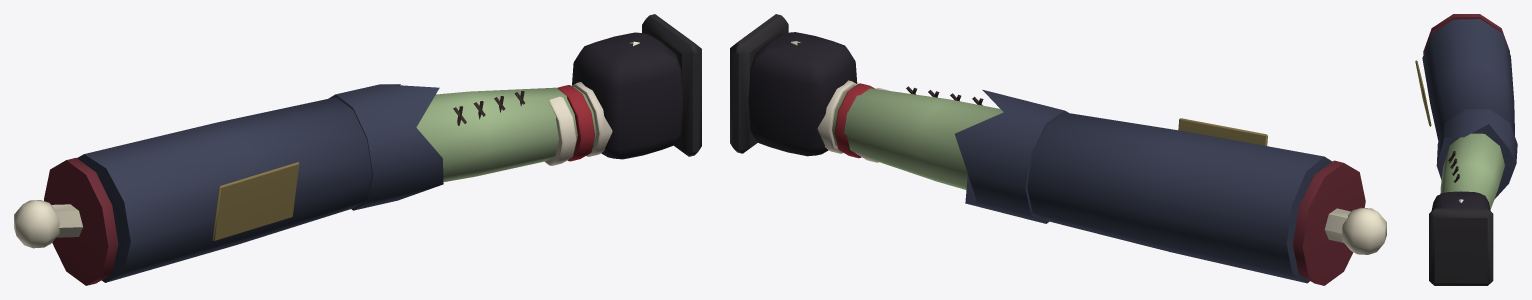
File: item_limb_leg.glb
The picture shows the model from 3 angles, left to right: view 1: azimuth 30°, elevation 25°; view 2: azimuth 150°, elevation 25°; view 3: azimuth 270°, elevation 25°; orthographic projection. The views are drawn at different scales.
Parts seen in each view (by area): view 1: item_limb_leg; view 2: item_limb_leg; view 3: item_limb_leg.
Part boxes in pixels (x1,y1,x2,y2): item_limb_leg: (14, 14, 701, 285); item_limb_leg: (730, 14, 1386, 285); item_limb_leg: (1415, 14, 1517, 285).
Size of the model in its own units: 0.9175 by 0.1561 by 0.1846.
